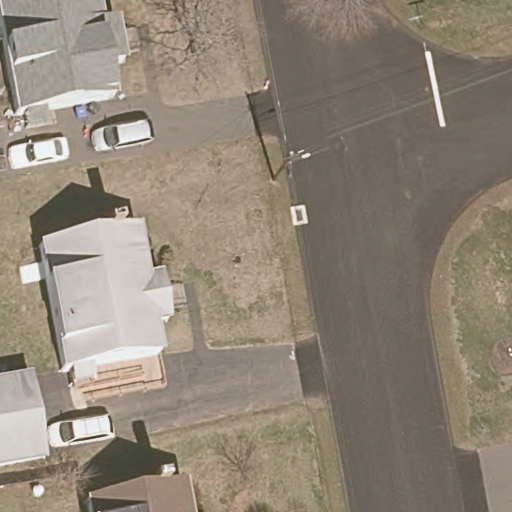DT: (271, 146, 312, 181)
